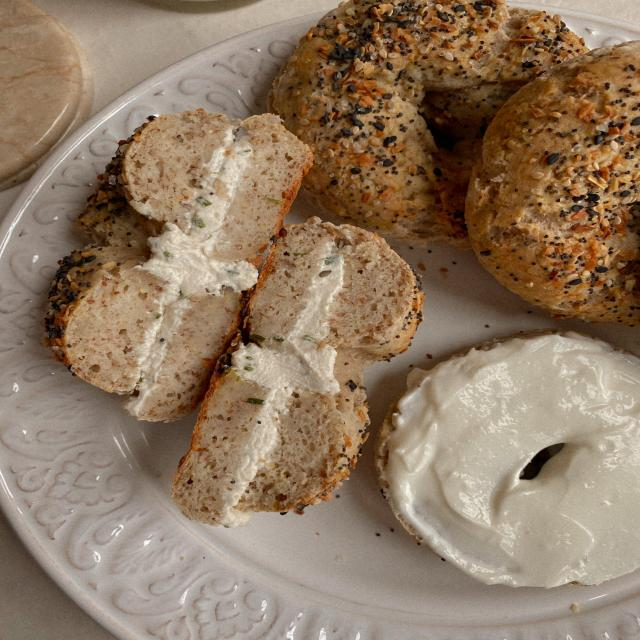Bagel: (268, 0, 588, 245), (465, 41, 640, 325)
